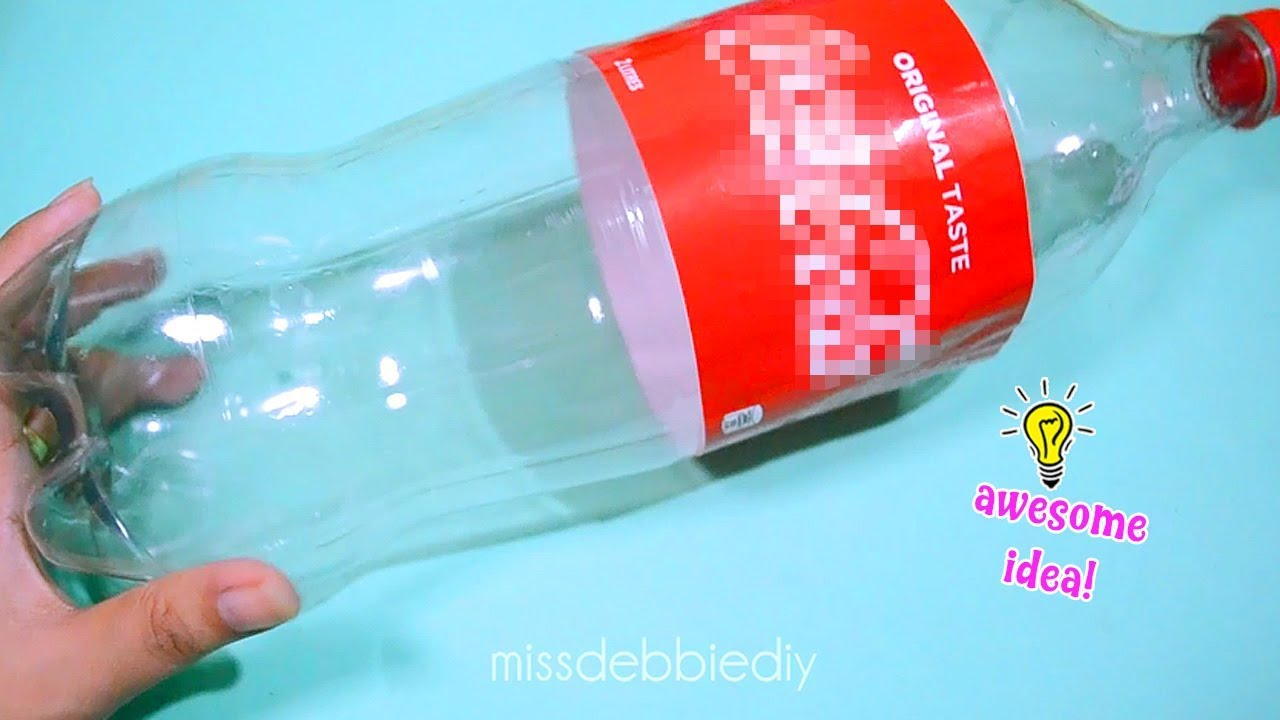plastic_bottle: (6, 1, 1280, 589)
